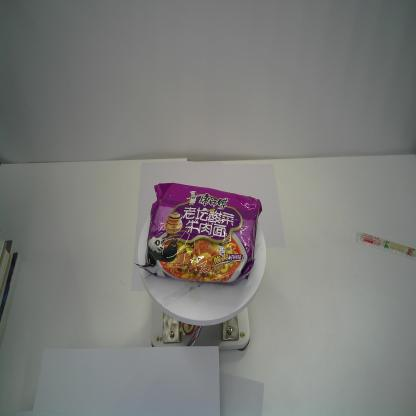Instant Noodles: (134, 182, 263, 284)
